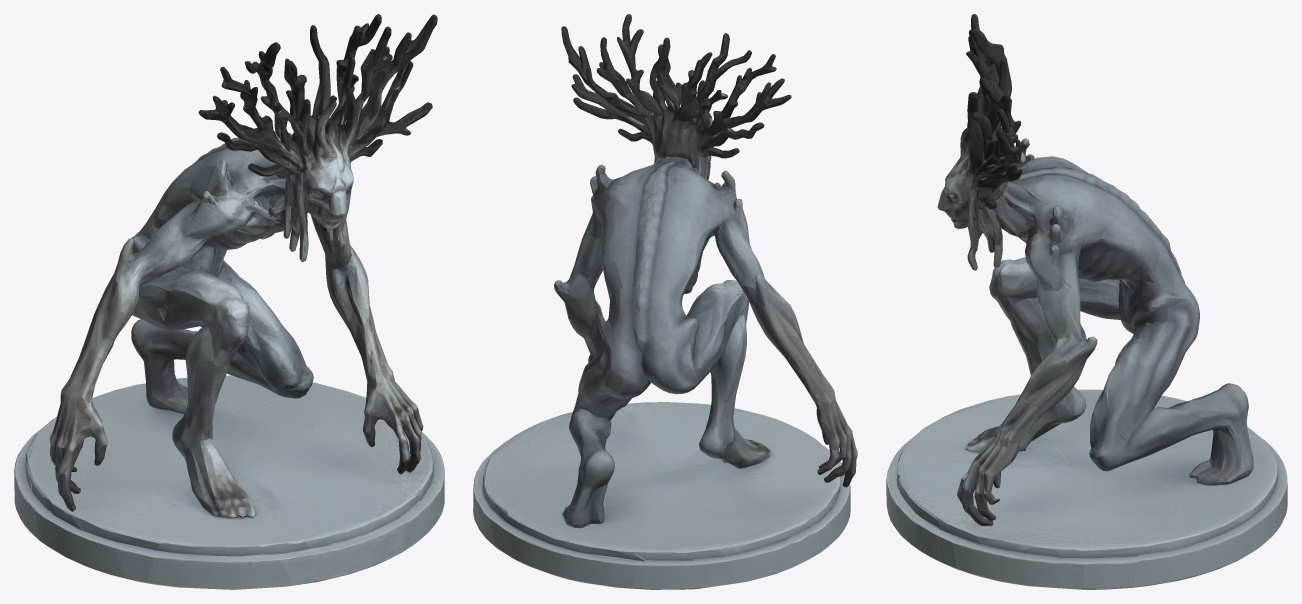
Rendered from changeling.glb.
The picture shows the model from 3 angles, left to right: view 1: azimuth 30°, elevation 25°; view 2: azimuth 150°, elevation 25°; view 3: azimuth 270°, elevation 25°; orthographic projection. The views are drawn at different scales.
Visible parts, largest first — view 1: output_unwrapped; view 2: output_unwrapped; view 3: output_unwrapped.
Boxes of the visible parts, x1,y1,x2,y2 form: output_unwrapped: [14, 14, 444, 589]; output_unwrapped: [473, 14, 857, 589]; output_unwrapped: [886, 14, 1287, 589].
Bounding box in the file's own units: 1.51 × 1.9 × 1.47.
Materials: 1 (1 with a texture image).
